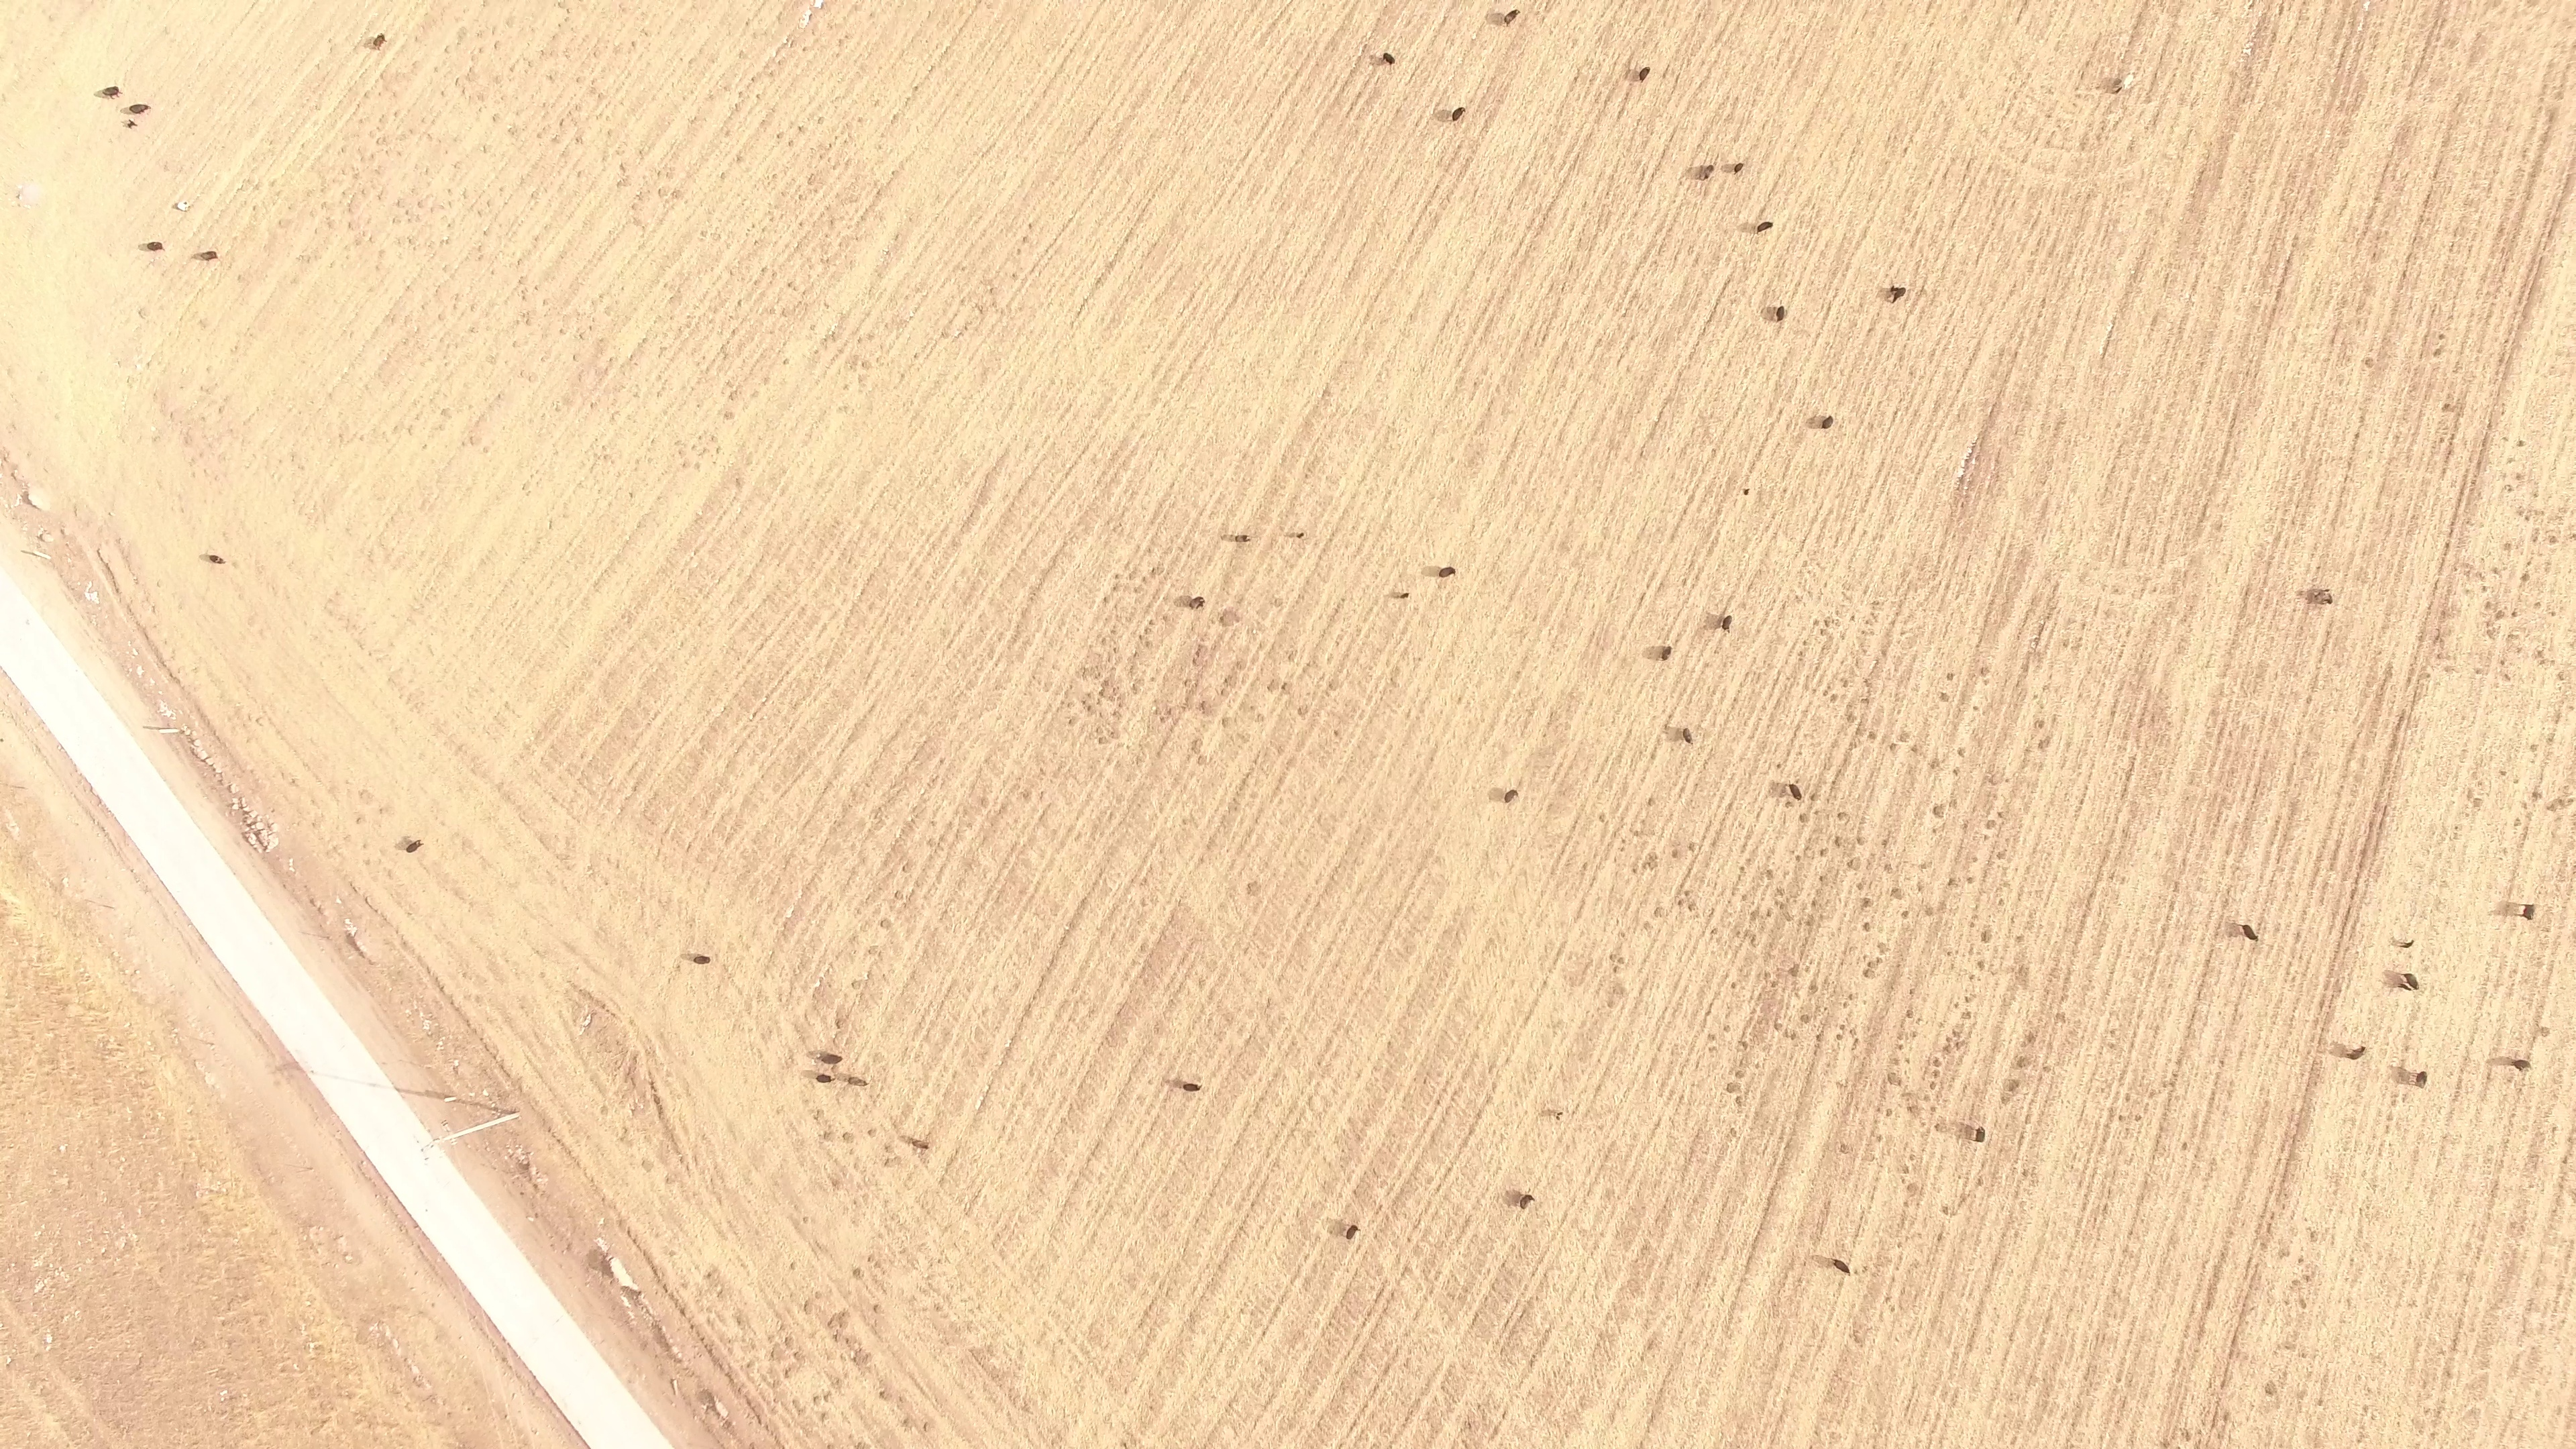sheep: (2231, 920, 2267, 945), (2339, 1041, 2373, 1064), (2394, 970, 2422, 993), (1828, 1256, 1858, 1277), (815, 1049, 845, 1068), (2112, 72, 2136, 97), (123, 100, 154, 117), (1884, 282, 1909, 304), (368, 28, 388, 53), (193, 247, 224, 264), (904, 1134, 932, 1152), (202, 551, 230, 568), (95, 83, 124, 101), (1631, 62, 1653, 85), (1501, 7, 1523, 28), (1515, 1189, 1536, 1213), (1969, 1122, 1988, 1146), (1377, 49, 1401, 68), (1176, 1077, 1203, 1095), (1228, 529, 1254, 546), (689, 951, 717, 968), (140, 239, 168, 255), (1696, 162, 1717, 183), (1340, 1220, 1361, 1243), (2412, 1068, 2430, 1091), (2519, 901, 2538, 924), (1786, 781, 1805, 804), (1446, 104, 1468, 124), (2510, 1054, 2534, 1074), (402, 837, 424, 856), (1499, 786, 1520, 806), (1715, 612, 1735, 633), (1769, 304, 1789, 325), (846, 1073, 869, 1090), (812, 1069, 835, 1086), (1183, 595, 1207, 612), (1655, 643, 1674, 664), (1817, 412, 1837, 432), (1676, 726, 1695, 747), (1436, 562, 1458, 581), (1753, 219, 1776, 235), (173, 199, 197, 213), (1729, 160, 1746, 176), (1289, 528, 1307, 541), (1394, 590, 1412, 602), (122, 118, 138, 131), (2400, 939, 2416, 951), (1740, 486, 1752, 498)
unknown: (696, 1387, 731, 1419), (649, 1322, 674, 1354), (2304, 586, 2336, 608), (342, 930, 366, 959), (274, 1058, 307, 1077), (568, 1424, 593, 1449), (2392, 1063, 2414, 1088), (2103, 75, 2125, 97), (422, 1087, 451, 1102), (2362, 818, 2377, 847), (650, 1091, 666, 1118), (2498, 899, 2520, 919), (2286, 1132, 2300, 1162), (2226, 1333, 2240, 1360), (2356, 843, 2371, 871), (1785, 961, 1803, 980), (529, 1373, 545, 1392), (19, 488, 35, 508), (1776, 781, 1790, 801), (2387, 731, 2400, 753), (2006, 1077, 2023, 1095), (2024, 1030, 2039, 1046), (1929, 803, 1945, 818), (2534, 647, 2548, 667), (1217, 609, 1230, 629), (488, 1321, 504, 1338), (1888, 885, 1904, 901), (515, 1160, 533, 1175), (1724, 1080, 1737, 1096), (250, 826, 264, 845), (2013, 1055, 2028, 1071), (2196, 508, 2208, 526), (2521, 294, 2534, 312), (2546, 109, 2558, 125), (850, 1265, 863, 1279), (1878, 836, 1892, 849), (1807, 790, 1820, 804), (2439, 400, 2453, 414), (2430, 345, 2445, 359), (2296, 1295, 2309, 1311), (1952, 1038, 1968, 1051), (2347, 886, 2359, 902), (1831, 833, 1843, 849), (2479, 433, 2491, 450), (238, 808, 250, 826), (2448, 511, 2460, 529), (1749, 1241, 1760, 1254), (409, 1218, 421, 1232), (1931, 1057, 1942, 1070), (1807, 981, 1820, 994), (1860, 967, 1872, 980), (1974, 958, 1987, 971), (1978, 930, 1990, 945), (1860, 919, 1872, 933), (1748, 908, 1762, 920), (1923, 905, 1935, 919), (1860, 897, 1872, 910), (2084, 890, 2096, 905), (1945, 875, 1957, 889), (1669, 847, 1681, 861), (239, 829, 252, 845), (1796, 812, 1808, 826), (2529, 788, 2542, 802), (1769, 781, 1782, 794), (2035, 737, 2047, 752), (1866, 731, 1879, 743), (2392, 720, 2404, 734), (2519, 571, 2532, 585), (2473, 456, 2485, 473), (2280, 264, 2291, 279), (876, 1388, 888, 1400), (498, 1354, 511, 1365), (1904, 1181, 1916, 1195), (2293, 1118, 2305, 1130), (1940, 1042, 1953, 1055), (1739, 1038, 1751, 1051), (1833, 1032, 1845, 1043), (1950, 1028, 1963, 1040), (2316, 998, 2328, 1011), (1768, 979, 1779, 991), (1803, 917, 1815, 929), (1685, 901, 1696, 912), (2471, 798, 2483, 810), (2555, 796, 2568, 809), (1909, 744, 1921, 756), (1852, 725, 1865, 738), (2035, 718, 2047, 731), (1844, 711, 1856, 724), (1938, 690, 1949, 703), (1100, 678, 1112, 690), (2492, 608, 2506, 622), (2483, 599, 2494, 612), (2548, 533, 2560, 545), (2456, 486, 2467, 500), (2513, 471, 2524, 483), (2495, 354, 2508, 366), (2549, 215, 2561, 227), (2220, 1411, 2232, 1425), (677, 1305, 688, 1318), (2203, 1299, 2214, 1313), (2263, 1220, 2274, 1236), (1940, 1203, 1951, 1218), (2179, 1140, 2190, 1153), (1541, 1107, 1556, 1119), (2342, 908, 2353, 922), (2464, 788, 2475, 802), (2273, 286, 2285, 301), (900, 1416, 912, 1428), (541, 1389, 552, 1401), (2265, 1387, 2276, 1398), (2218, 1378, 2229, 1390), (44, 1334, 54, 1346), (870, 1302, 881, 1314), (650, 1266, 660, 1277), (419, 1230, 430, 1242), (832, 1177, 842, 1188), (2279, 1172, 2290, 1184), (821, 1129, 833, 1140), (1931, 1068, 1941, 1081), (2174, 1056, 2185, 1069), (1813, 1032, 1824, 1044), (1788, 1031, 1799, 1042), (1802, 1014, 1813, 1024), (1963, 1008, 1974, 1020), (1022, 1006, 1033, 1017), (2015, 964, 2026, 977), (2014, 933, 2025, 943), (1809, 898, 1819, 910), (307, 896, 317, 907), (1965, 874, 1976, 887), (1764, 867, 1774, 879), (1995, 850, 2007, 862), (1686, 841, 1697, 853), (1854, 835, 1865, 847), (1994, 809, 2005, 820), (223, 783, 234, 794), (1886, 742, 1897, 754), (1095, 735, 1106, 747), (1196, 700, 1207, 710), (1095, 688, 1107, 700), (1840, 678, 1851, 690), (1944, 672, 1956, 684), (2020, 664, 2031, 676), (1878, 647, 1890, 660), (2509, 608, 2520, 621), (2295, 588, 2306, 599), (2442, 539, 2453, 551), (1955, 476, 1968, 487), (1962, 455, 1972, 467), (2220, 446, 2231, 459), (2516, 437, 2526, 450), (2484, 421, 2495, 433), (2436, 331, 2448, 342), (1106, 259, 1116, 271), (2528, 256, 2538, 267), (1491, 1425, 1501, 1438), (2159, 1438, 2170, 1449), (723, 1419, 734, 1430), (743, 1397, 754, 1407), (820, 1392, 831, 1403), (510, 1349, 520, 1360), (704, 1346, 715, 1357), (1853, 1336, 1864, 1346), (2196, 1326, 2206, 1336), (484, 1316, 495, 1327), (835, 1313, 845, 1323), (802, 1299, 812, 1309), (622, 1299, 632, 1309), (2204, 1285, 2214, 1295), (459, 1283, 469, 1293), (2295, 1255, 2306, 1266), (2307, 1230, 2318, 1241), (2255, 1220, 2265, 1232), (1900, 1199, 1911, 1210), (2020, 1168, 2031, 1179), (1902, 1166, 1912, 1176), (2283, 1159, 2294, 1169), (2116, 1112, 2126, 1124), (2123, 1093, 2133, 1104), (415, 1089, 425, 1099), (2208, 1088, 2218, 1099), (647, 1083, 657, 1093), (2168, 1079, 2178, 1090), (1884, 1073, 1894, 1085), (1732, 1069, 1743, 1079), (2040, 1063, 2050, 1073), (1895, 1042, 1905, 1052), (1943, 1034, 1953, 1045), (2537, 1026, 2547, 1036), (2053, 1010, 2063, 1022), (1605, 999, 1616, 1010), (1788, 998, 1800, 1008), (2334, 985, 2345, 996), (1728, 980, 1739, 991), (1610, 965, 1620, 975), (1615, 955, 1627, 967), (2349, 923, 2359, 934), (2078, 916, 2088, 928), (1784, 914, 1794, 924), (1900, 908, 1911, 919), (1651, 908, 1661, 918), (1776, 902, 1786, 912), (1077, 899, 1088, 909), (1682, 888, 1693, 899), (1855, 881, 1865, 892), (2171, 878, 2182, 888), (2352, 874, 2362, 885), (1629, 865, 1640, 875), (1737, 863, 1748, 873), (1792, 853, 1803, 864), (1646, 853, 1656, 864), (2371, 843, 2381, 853), (260, 843, 271, 853), (1631, 828, 1642, 839), (2376, 826, 2386, 837), (1834, 810, 1845, 821), (2547, 801, 2558, 812), (2371, 800, 2382, 811), (2288, 800, 2298, 810), (1725, 800, 1735, 810), (225, 800, 235, 810), (1784, 798, 1794, 808), (1646, 795, 1656, 805), (1021, 792, 1031, 802), (1986, 775, 1996, 786), (2498, 768, 2509, 779), (209, 765, 219, 775), (1955, 747, 1966, 758), (2043, 734, 2053, 745), (2215, 729, 2226, 739), (176, 727, 188, 737), (2108, 708, 2118, 719), (1164, 708, 1175, 718), (1829, 692, 1839, 703), (1326, 680, 1336, 690), (1863, 680, 1873, 690), (173, 676, 183, 687), (2404, 674, 2414, 685), (2556, 672, 2567, 684), (2385, 669, 2396, 680), (1189, 656, 1199, 667), (1195, 642, 1205, 652), (2432, 633, 2442, 643), (1812, 618, 1822, 628), (2548, 609, 2559, 619), (2438, 608, 2449, 619), (1101, 595, 1111, 606), (2502, 543, 2513, 553), (36, 533, 46, 543), (1955, 468, 1966, 478), (2477, 447, 2487, 458), (2352, 431, 2363, 441), (1320, 386, 1331, 397), (2150, 315, 2160, 325), (2520, 311, 2530, 321), (2269, 307, 2279, 317), (2496, 227, 2506, 237), (1913, 226, 1923, 237), (911, 83, 921, 93), (2141, 1, 2151, 11), (2303, 1273, 2313, 1284), (1935, 1232, 1945, 1243), (1904, 1104, 1915, 1114), (2377, 816, 2387, 827), (812, 1, 825, 9), (550, 1401, 560, 1411), (2315, 1397, 2325, 1408), (1646, 1340, 1656, 1350), (830, 1332, 841, 1342), (472, 1299, 482, 1309), (704, 1271, 714, 1282), (1990, 1259, 2000, 1269), (1746, 1252, 1756, 1263), (1762, 1205, 1772, 1215), (1959, 1193, 1969, 1203), (531, 1181, 541, 1191), (2560, 1157, 2571, 1167), (1838, 1140, 1848, 1150), (2298, 1105, 2308, 1115), (1733, 1093, 1743, 1104), (2170, 1071, 2180, 1081), (835, 1016, 845, 1026), (1114, 1010, 1124, 1020), (1617, 986, 1627, 996), (1675, 898, 1685, 908), (1739, 892, 1749, 902), (1983, 820, 1993, 830), (244, 820, 254, 830), (2566, 796, 2576, 806), (1829, 777, 1839, 788), (1774, 761, 1784, 771), (1928, 761, 1938, 772), (2527, 743, 2537, 753), (187, 736, 197, 747), (1219, 716, 1229, 726), (1295, 706, 1305, 717), (1084, 702, 1094, 714), (1862, 696, 1872, 706), (1279, 682, 1289, 693), (1193, 649, 1203, 659), (1142, 638, 1152, 649), (1160, 613, 1171, 623), (112, 585, 122, 595), (2531, 533, 2541, 543), (2522, 513, 2532, 523), (2216, 460, 2226, 471), (2327, 337, 2337, 347), (2530, 277, 2540, 287), (2284, 257, 2294, 268), (1740, 222, 1750, 233), (2563, 175, 2573, 185), (2528, 171, 2538, 181), (1684, 166, 1694, 176), (498, 1335, 508, 1345), (1236, 1224, 1246, 1234), (399, 1204, 409, 1214), (2062, 974, 2072, 984), (1864, 960, 1874, 970), (187, 746, 197, 756), (1332, 729, 1342, 739), (2498, 657, 2508, 667), (1974, 452, 1984, 462), (2526, 288, 2536, 298), (2569, 531, 2576, 541)
